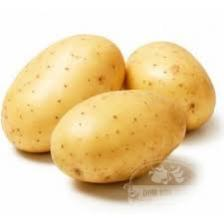Diseased-fungal potato: (0, 33, 127, 154), (50, 90, 187, 184), (123, 41, 217, 131)
